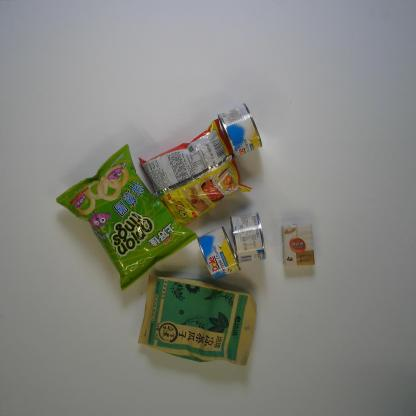Canned Food: (217, 102, 263, 158), (197, 226, 241, 281), (230, 212, 266, 263)
Dried Food: (138, 274, 257, 367)
Instant Noodles: (139, 118, 253, 227)
Puffed Food: (56, 143, 199, 292)
Tissue: (281, 222, 315, 267)
